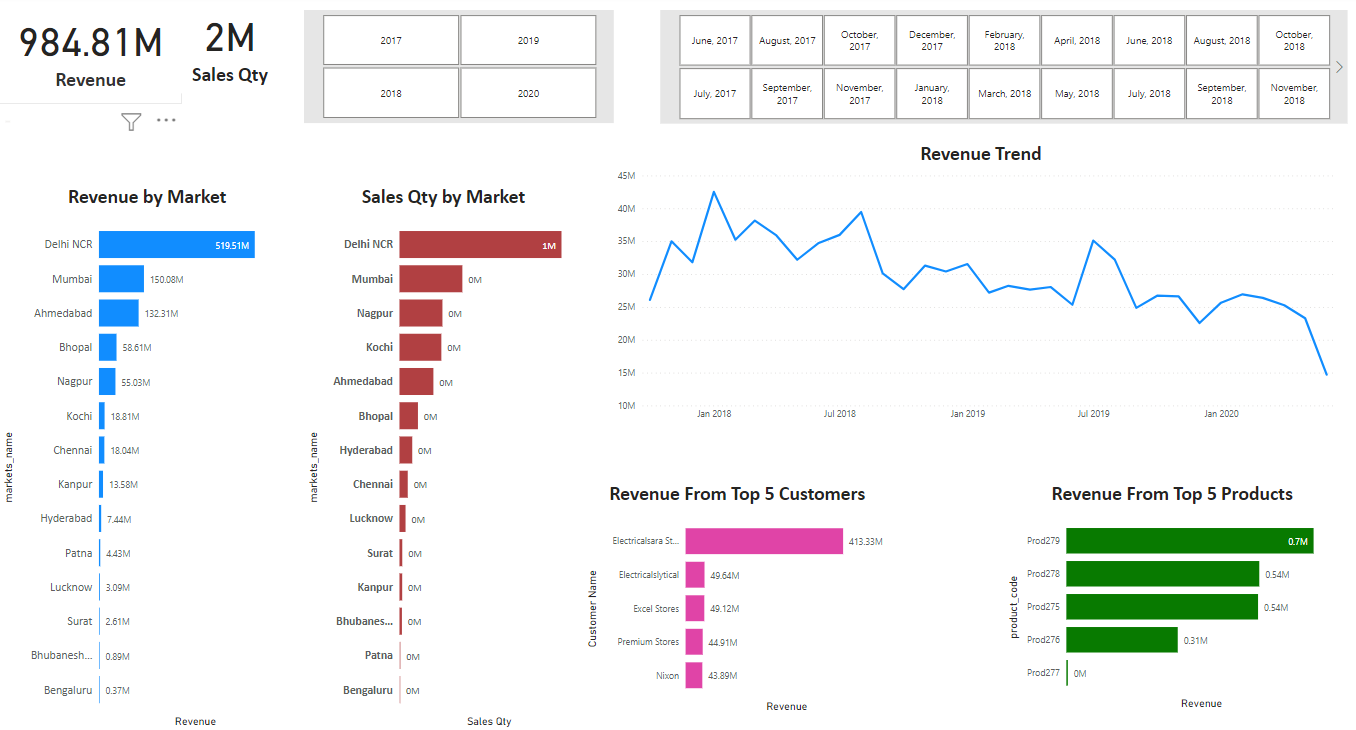

The page's visual inventory and layout, read from the dashboard file:
{"tool":"powerbi","page":{"name":"Page 1","canvas":[1850,1000],"ordinal":0},"visuals":[{"type":"card","fields":{"Values":["Base_Measures.Revenue"]},"box":[0,0,249.1,147.7],"z":0},{"type":"card","fields":{"Values":["Base_Measures.Sales Qty"]},"box":[221.6,0,182.5,133.3],"z":2},{"type":"clusteredBarChart","title":"Revenue by Market","fields":{"Y":["Base_Measures.Revenue"],"Category":["sales markets.markets_name"]},"box":[0,256.4,402.4,743.6],"z":3},{"type":"clusteredBarChart","title":"Sales Qty by Market","fields":{"Y":["Base_Measures.Sales Qty"],"Category":["sales markets.markets_name"]},"box":[414.3,256.4,378.6,743.6],"z":4},{"type":"slicer","fields":{"Values":["sales date.year"]},"box":[414.5,21,421,153.2],"z":5},{"type":"slicer","fields":{"Values":["sales date.cy_date"]},"box":[898.1,20.2,933.4,154.7],"z":6},{"type":"clusteredBarChart","title":"Revenue From Top 5 Customers","fields":{"Y":["Base_Measures.Revenue"],"Category":["sales customers.custmer_name","sales markets.markets_name"]},"box":[792.9,660.4,419.4,319.2],"z":7},{"type":"clusteredBarChart","title":"Revenue From Top 5 Products","fields":{"Y":["Base_Measures.Revenue"],"Category":["sales products.product_code"]},"box":[1365,660.4,456.7,315.8],"z":8},{"type":"lineChart","title":"Revenue Trend","fields":{"Category":["sales date.cy_date"],"Y":["Base_Measures.Revenue"]},"box":[835.3,198.6,996.6,388.8],"z":9},{"type":"qnaVisual","box":[0,157.9,15.3,15.3],"z":10}]}

Visuals, with their boxes in screenshot pixels (x1, y1, x2, y2), scaled from the page's 1850x1000 canvas onto the 1356x730 screenshot:
card - Base_Measures.Revenue: pyautogui.locateOnScreen(0, 0, 183, 108)
card - Base_Measures.Sales Qty: pyautogui.locateOnScreen(162, 0, 296, 97)
"Revenue by Market" clusteredBarChart: pyautogui.locateOnScreen(0, 187, 295, 729)
"Sales Qty by Market" clusteredBarChart: pyautogui.locateOnScreen(304, 187, 581, 729)
slicer - sales date.year: pyautogui.locateOnScreen(304, 15, 612, 127)
slicer - sales date.cy_date: pyautogui.locateOnScreen(658, 15, 1342, 128)
"Revenue From Top 5 Customers" clusteredBarChart: pyautogui.locateOnScreen(581, 482, 889, 715)
"Revenue From Top 5 Products" clusteredBarChart: pyautogui.locateOnScreen(1001, 482, 1335, 713)
"Revenue Trend" lineChart: pyautogui.locateOnScreen(612, 145, 1343, 429)
qnaVisual: pyautogui.locateOnScreen(0, 115, 11, 126)
